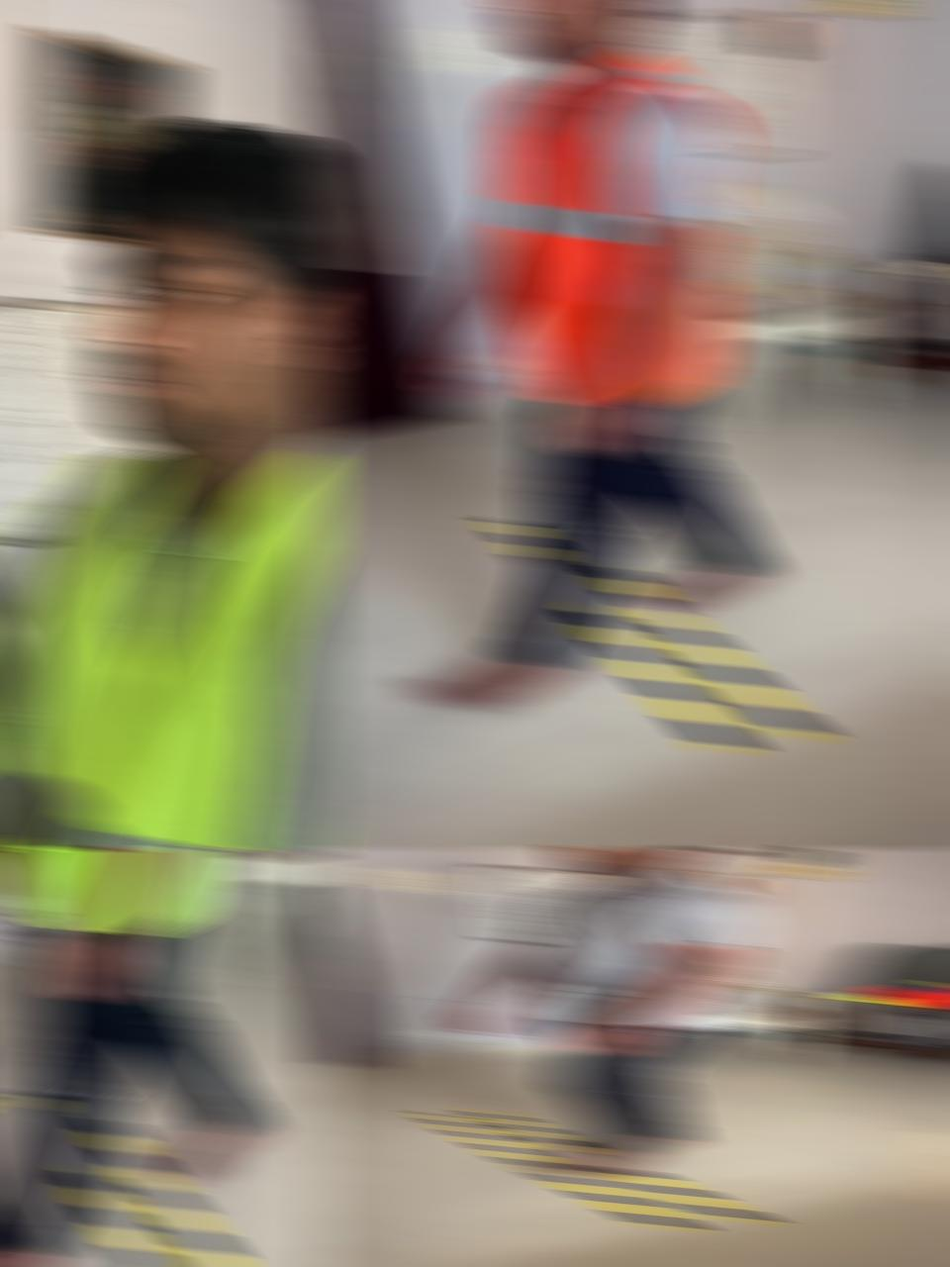BorderLine: (487, 517, 826, 756), (15, 1089, 328, 1267), (423, 1108, 773, 1231)
No_Helmet: (86, 116, 334, 466), (495, 0, 661, 63), (556, 848, 724, 875)
No_Vest: (518, 872, 760, 1031)
Person: (423, 0, 775, 711), (0, 116, 334, 849), (0, 847, 270, 1267), (452, 847, 766, 1178)
Vest: (0, 436, 334, 849), (497, 46, 741, 408), (10, 847, 225, 934)
